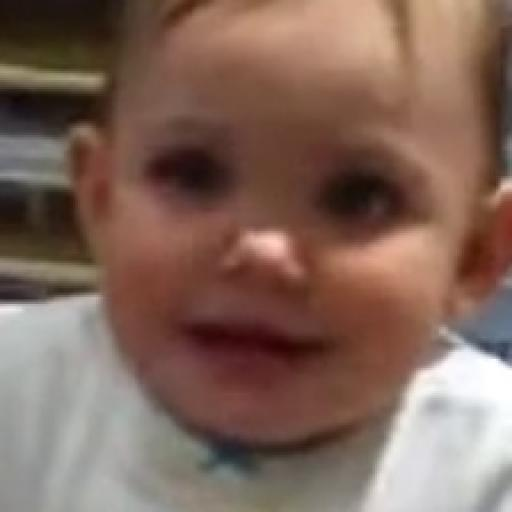Autism: (110, 34, 459, 486)
